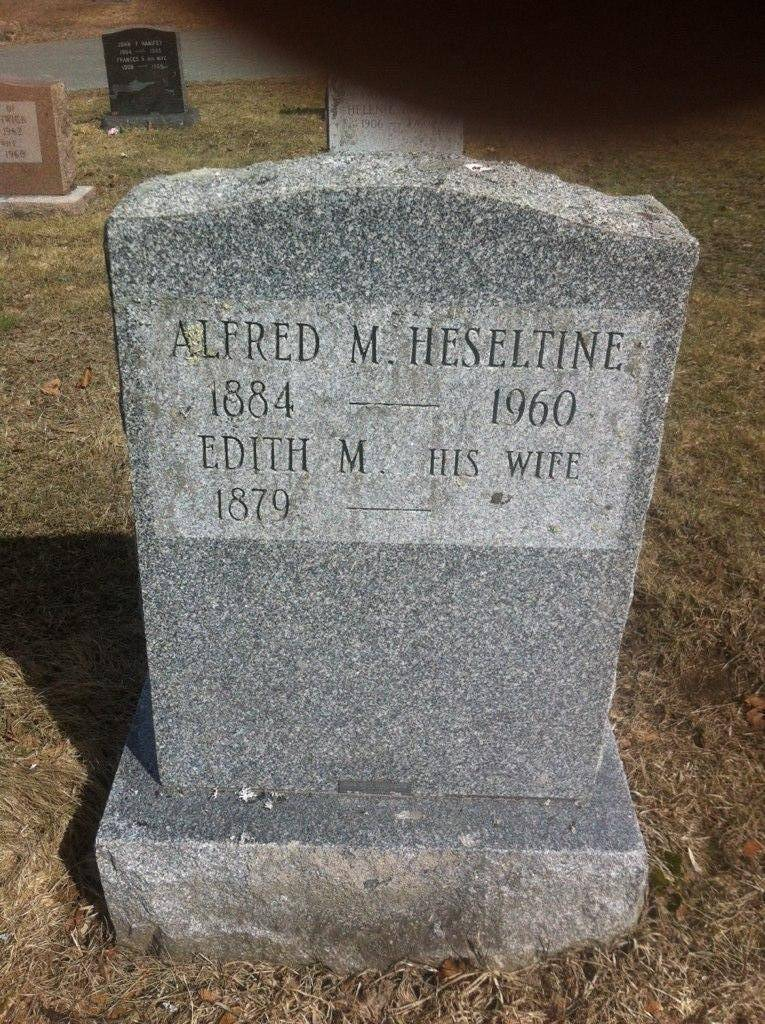upright: (93, 159, 694, 942)
